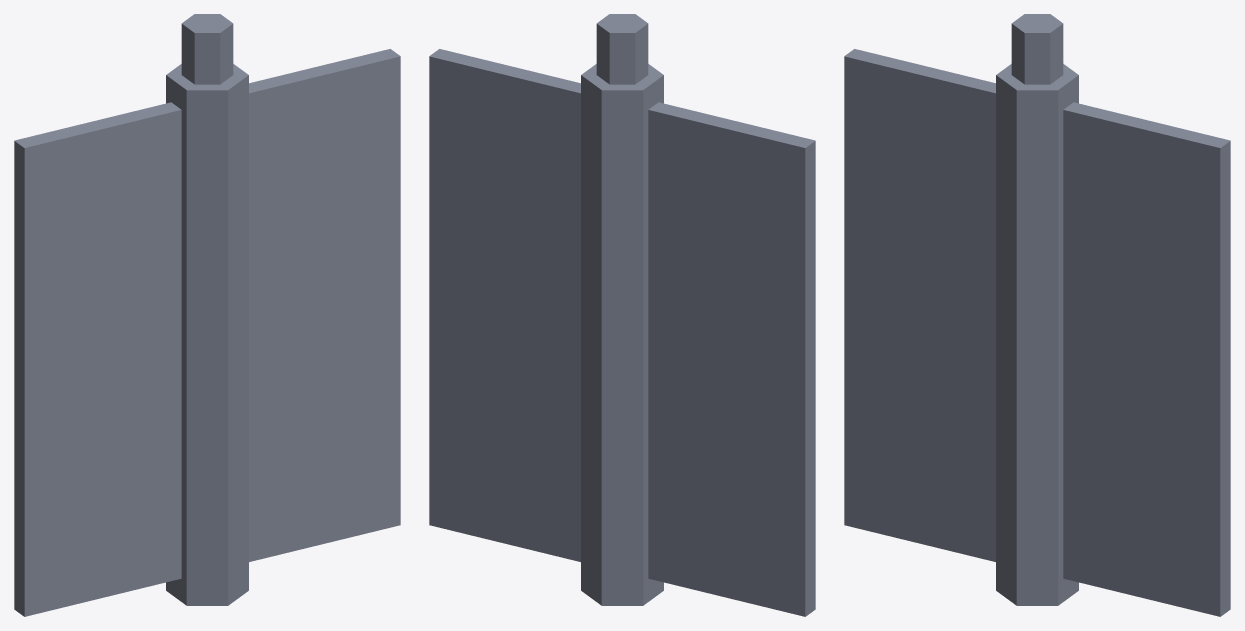
Rendered from Door_Hinge.fbx.
The picture shows the model from 3 angles, left to right: view 1: azimuth 30°, elevation 25°; view 2: azimuth 150°, elevation 25°; view 3: azimuth 330°, elevation 25°; orthographic projection.
Visible parts, largest first — view 1: Door_Hinge; view 2: Door_Hinge; view 3: Door_Hinge.
Part boxes in pixels (x1,y1,x2,y2): Door_Hinge: [14, 14, 400, 616]; Door_Hinge: [429, 14, 815, 616]; Door_Hinge: [844, 14, 1230, 616].
Bounding box in the file's own units: 0.084 × 0.121 × 0.016.
